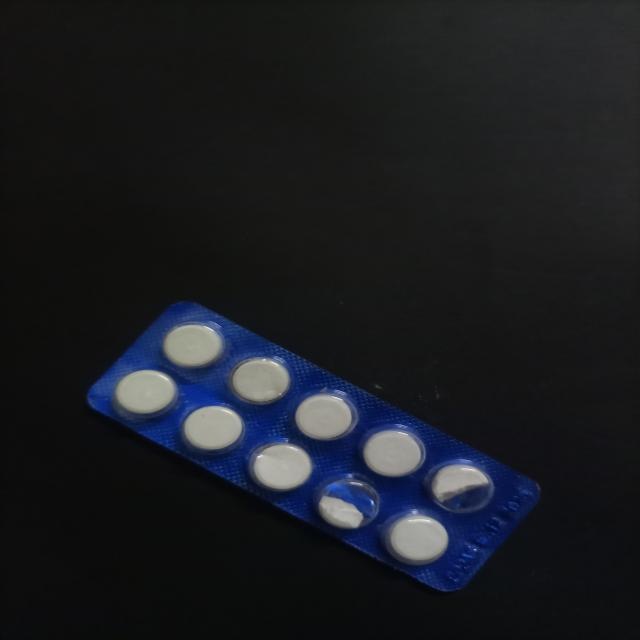defect: (423, 458, 498, 515), (311, 476, 384, 531)
